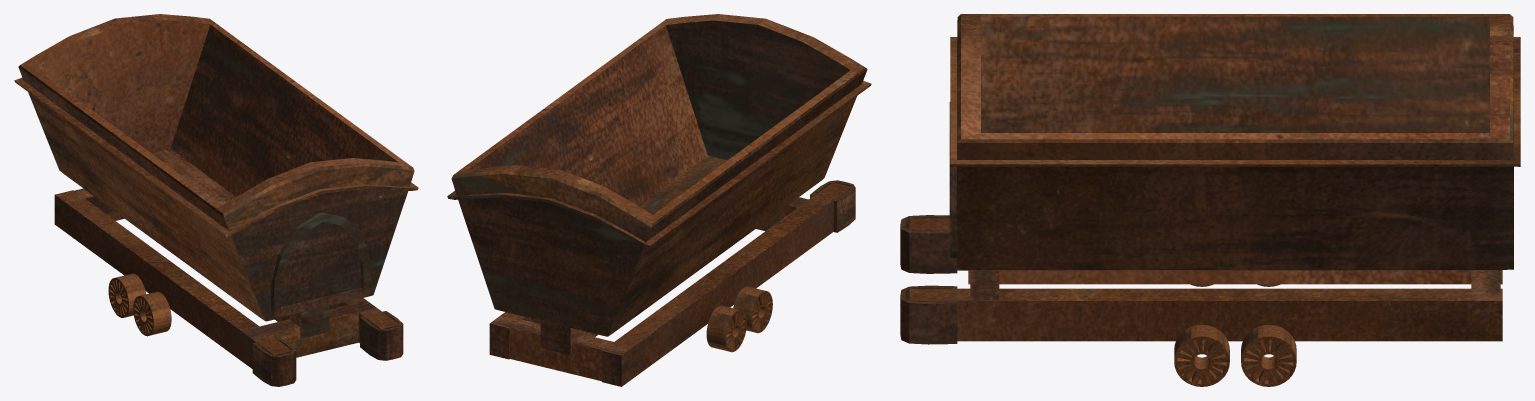
File: Mining cart.glb
The picture shows the model from 3 angles, left to right: view 1: azimuth 30°, elevation 25°; view 2: azimuth 150°, elevation 25°; view 3: azimuth 270°, elevation 25°; orthographic projection. The views are drawn at different scales.
Parts seen in each view (by area): view 1: Plane.032, Cylinder.002, Cylinder.005; view 2: Plane.032, Cylinder.005, Cylinder.002; view 3: Plane.032, Cylinder.003, Cylinder.001.
Part boxes in pixels (box(x1,y1,x2,y2)): Plane.032: box(14, 14, 418, 386); Cylinder.002: box(133, 291, 171, 336); Cylinder.005: box(108, 273, 145, 317); Plane.032: box(447, 14, 871, 386); Cylinder.005: box(706, 305, 746, 352); Cylinder.002: box(733, 286, 772, 333); Plane.032: box(900, 14, 1520, 344); Cylinder.003: box(1241, 324, 1296, 386); Cylinder.001: box(1174, 324, 1229, 386).
Size of the model in its own units: 1.08 by 1.14 by 2.23.
Materials: 1 (1 with a texture image).
